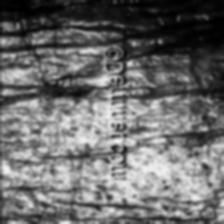Non-Cancerous Skin Condition: (0, 0, 212, 224)
